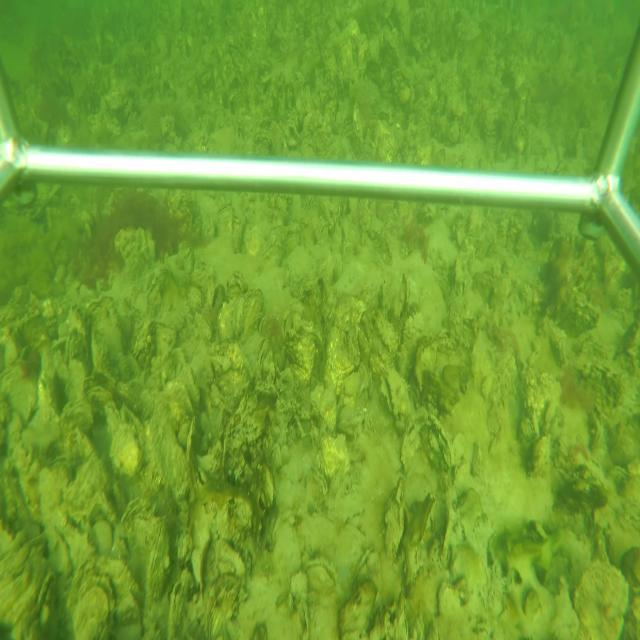Oyster-Closed: (382, 476, 406, 562), (146, 515, 170, 600), (304, 556, 338, 593), (416, 496, 438, 548), (179, 361, 200, 405), (393, 272, 409, 322), (186, 415, 197, 482), (332, 360, 356, 382)
Oyster-Indeterminate: (204, 534, 246, 633), (401, 411, 452, 484), (85, 296, 124, 372)
